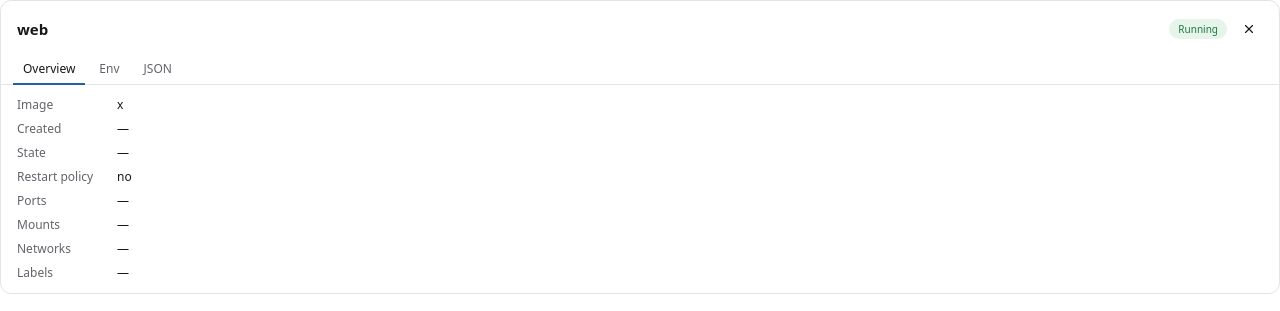
ContainerDetailsPanel › shows a message when there are no env vars
Expected: the text "x" is shown, [117,96,123,113]
Step 1. Click the tab "Env" → click(110, 70), box [89,55,130,85]
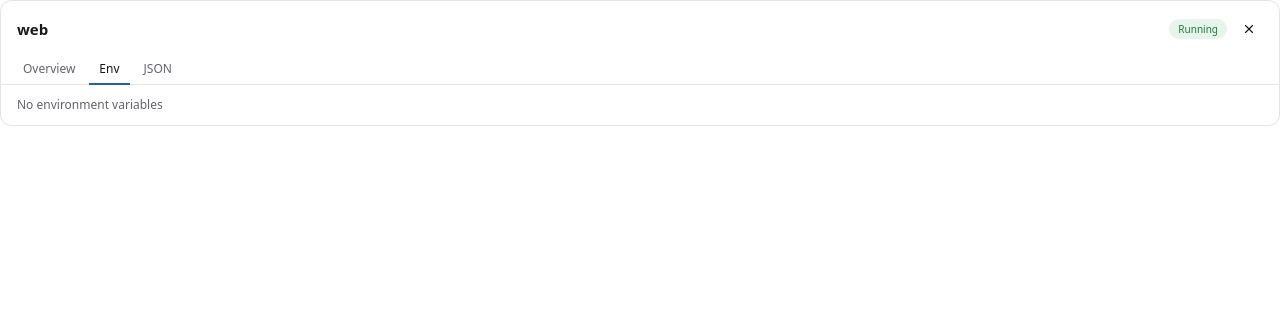
Now the text "No environment variables" is shown, box [17,96,163,113]
